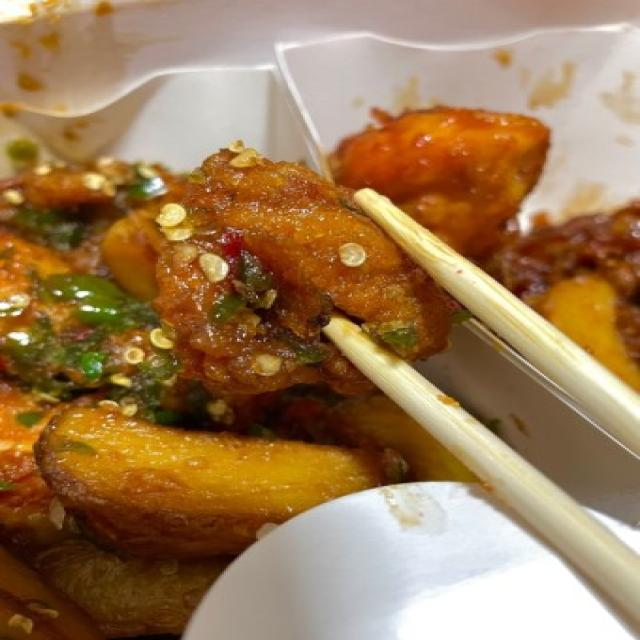Frango: (28, 109, 640, 640)
